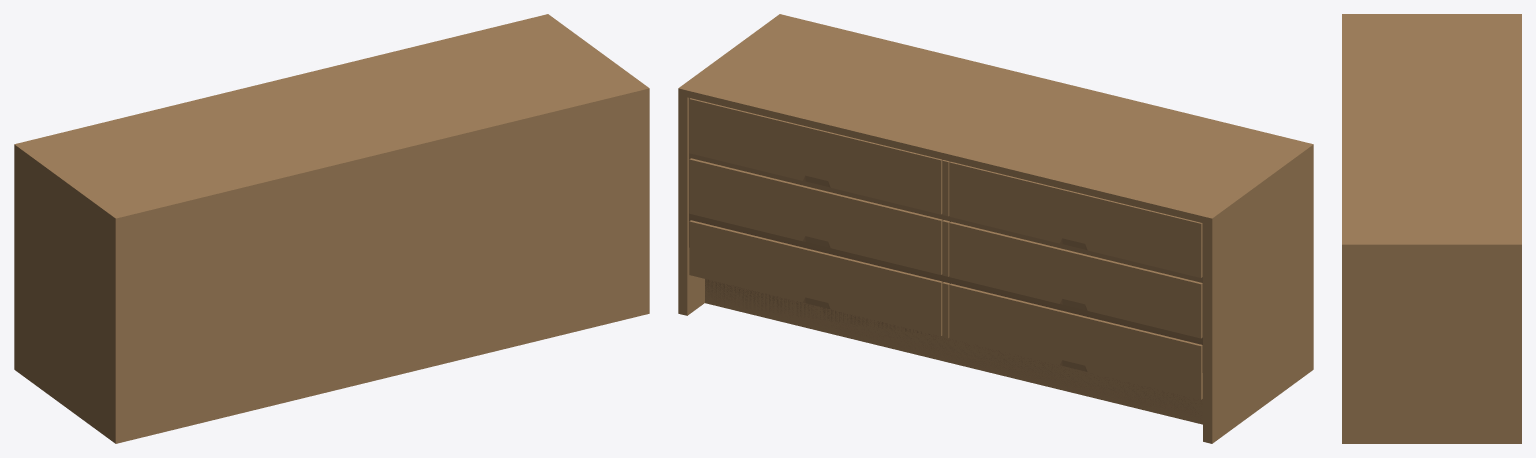
Rendered from cabinet02.fbx.
3 renders of one model, left to right at view 1: azimuth 30°, elevation 25°; view 2: azimuth 150°, elevation 25°; view 3: azimuth 270°, elevation 25°, orthographic. The views are drawn at different scales.
Parts seen in each view (by area): view 1: pasted__polySurface47; view 2: pasted__polySurface47; view 3: pasted__polySurface47.
Boxes of the visible parts, left/top/right/bottom form: pasted__polySurface47: left=14, top=14, right=649, bottom=443; pasted__polySurface47: left=678, top=14, right=1313, bottom=443; pasted__polySurface47: left=1342, top=14, right=1521, bottom=443.
Bounding box in the file's own units: 155 × 62.62 × 51.16.
